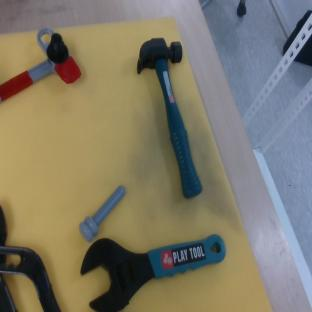pass: (0, 22, 82, 101)
